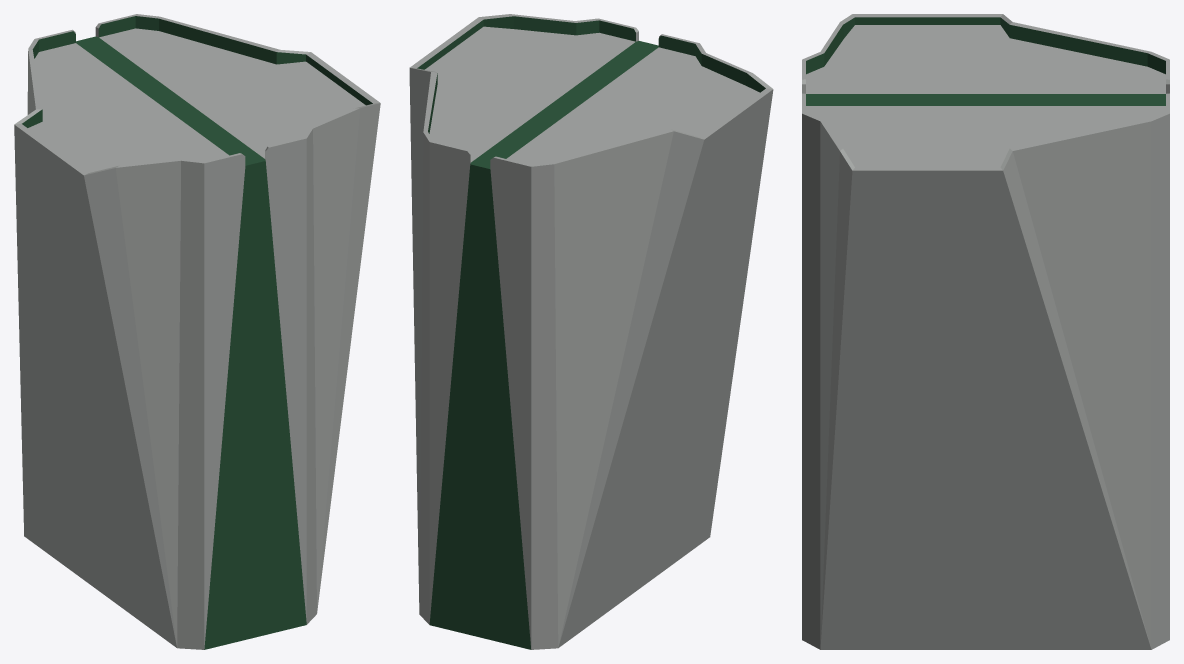
Rendered from Arena_standart_triangle.fbx.
3 views of the same model, side by side, from view 1: azimuth 30°, elevation 25°; view 2: azimuth 150°, elevation 25°; view 3: azimuth 270°, elevation 25° (orthographic). The views are drawn at different scales.
Visible parts, largest first — view 1: Triangle; view 2: Triangle; view 3: Triangle.
Part boxes in pixels (left/top/right/bottom): Triangle: left=14, top=14, right=380, bottom=649; Triangle: left=409, top=14, right=773, bottom=649; Triangle: left=802, top=14, right=1169, bottom=649.
Size of the model in its own units: 1936 by 3032 by 1920.
